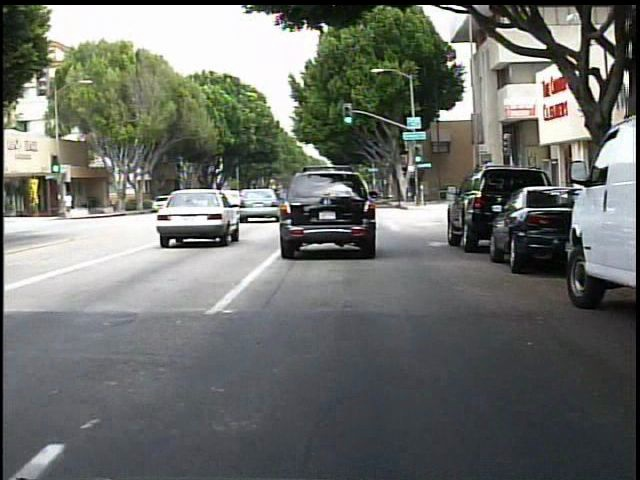person: (68, 191, 78, 217)
